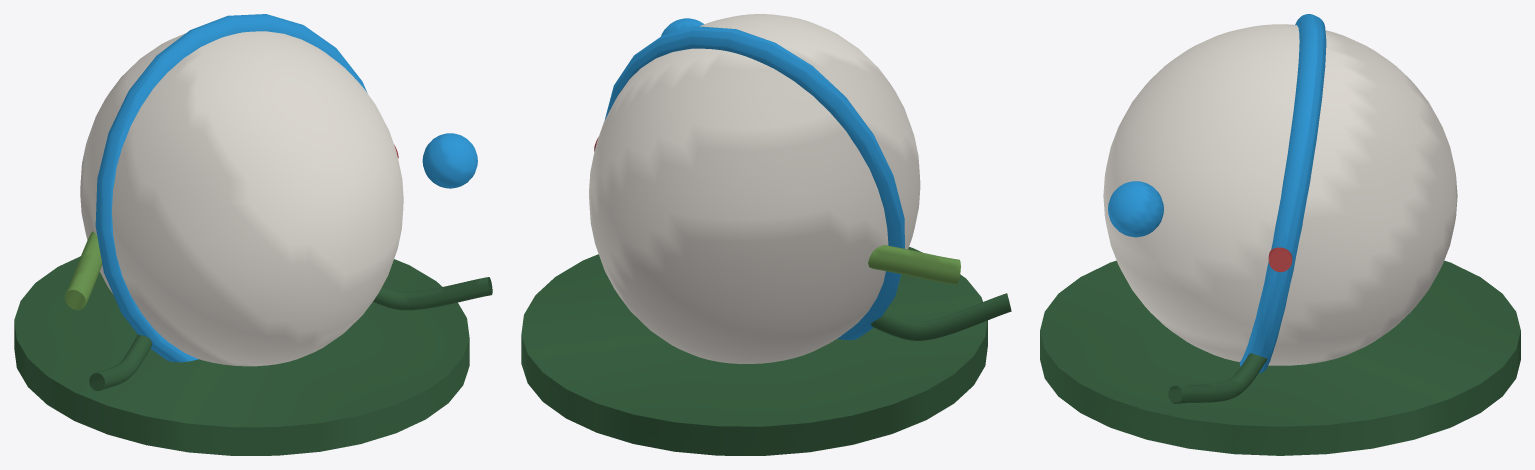
File: 1208_细胞图鉴_内膜.glb
The picture shows the model from 3 angles, left to right: view 1: azimuth 30°, elevation 25°; view 2: azimuth 150°, elevation 25°; view 3: azimuth 270°, elevation 25°; orthographic projection. The views are drawn at different scales.
Parts seen in each view (by area): view 1: card_1208; view 2: card_1208; view 3: card_1208.
Part boxes in pixels (x1,y1,x2,y2): card_1208: (14,14,492,455); card_1208: (521,14,1011,455); card_1208: (1040,14,1520,455).
Bounding box in the file's own units: 1.26 × 1 × 1.28.
